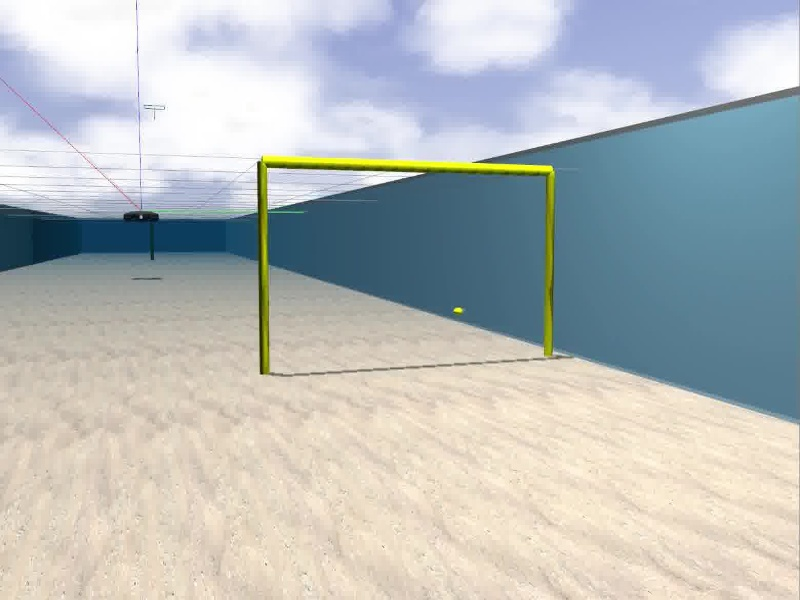gate: (255, 153, 555, 378)
